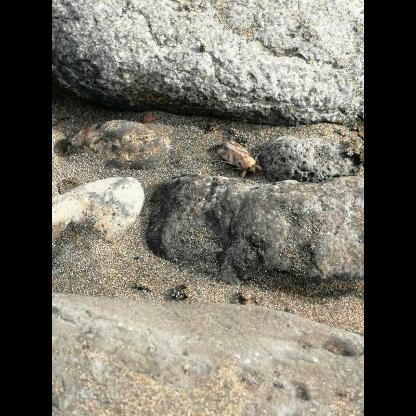Fall Armyworm Moth: (211, 139, 266, 182)
